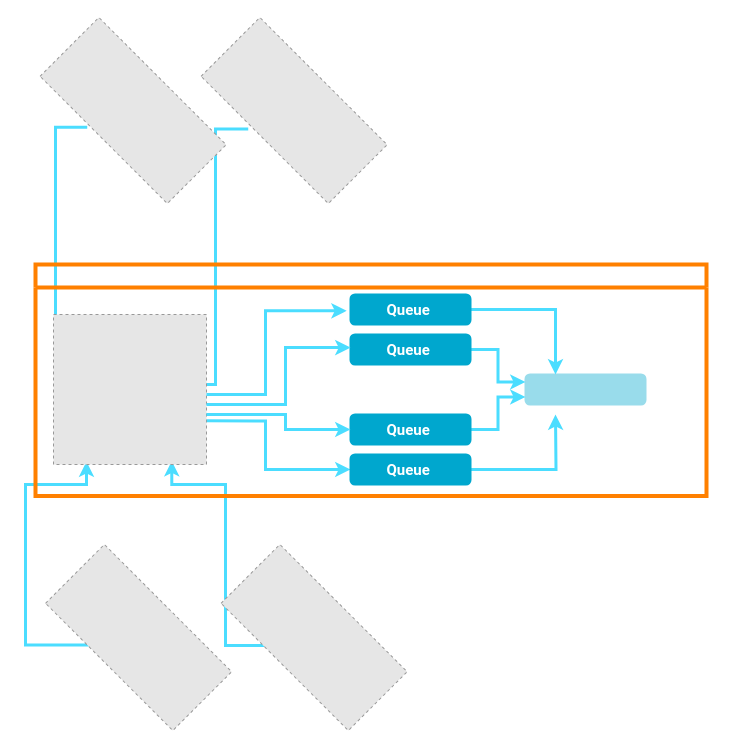
Some shapes in this 745 by 749 pixel diagram are drawn without their labels. Grey dashed boxes stand in for pictures. The box of each missing label's shape, as (x1, y1, x2, y2) in pixels:
CashBox: (33, 262, 708, 498)
SCU: (524, 373, 646, 405)
